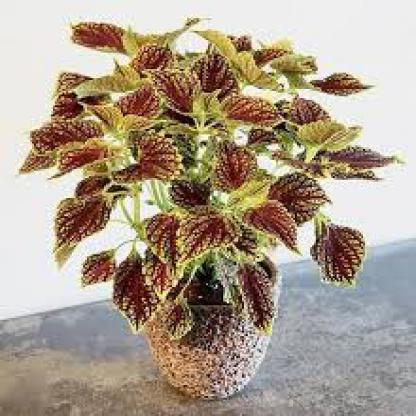Bunga Coleus: (45, 21, 362, 292)
